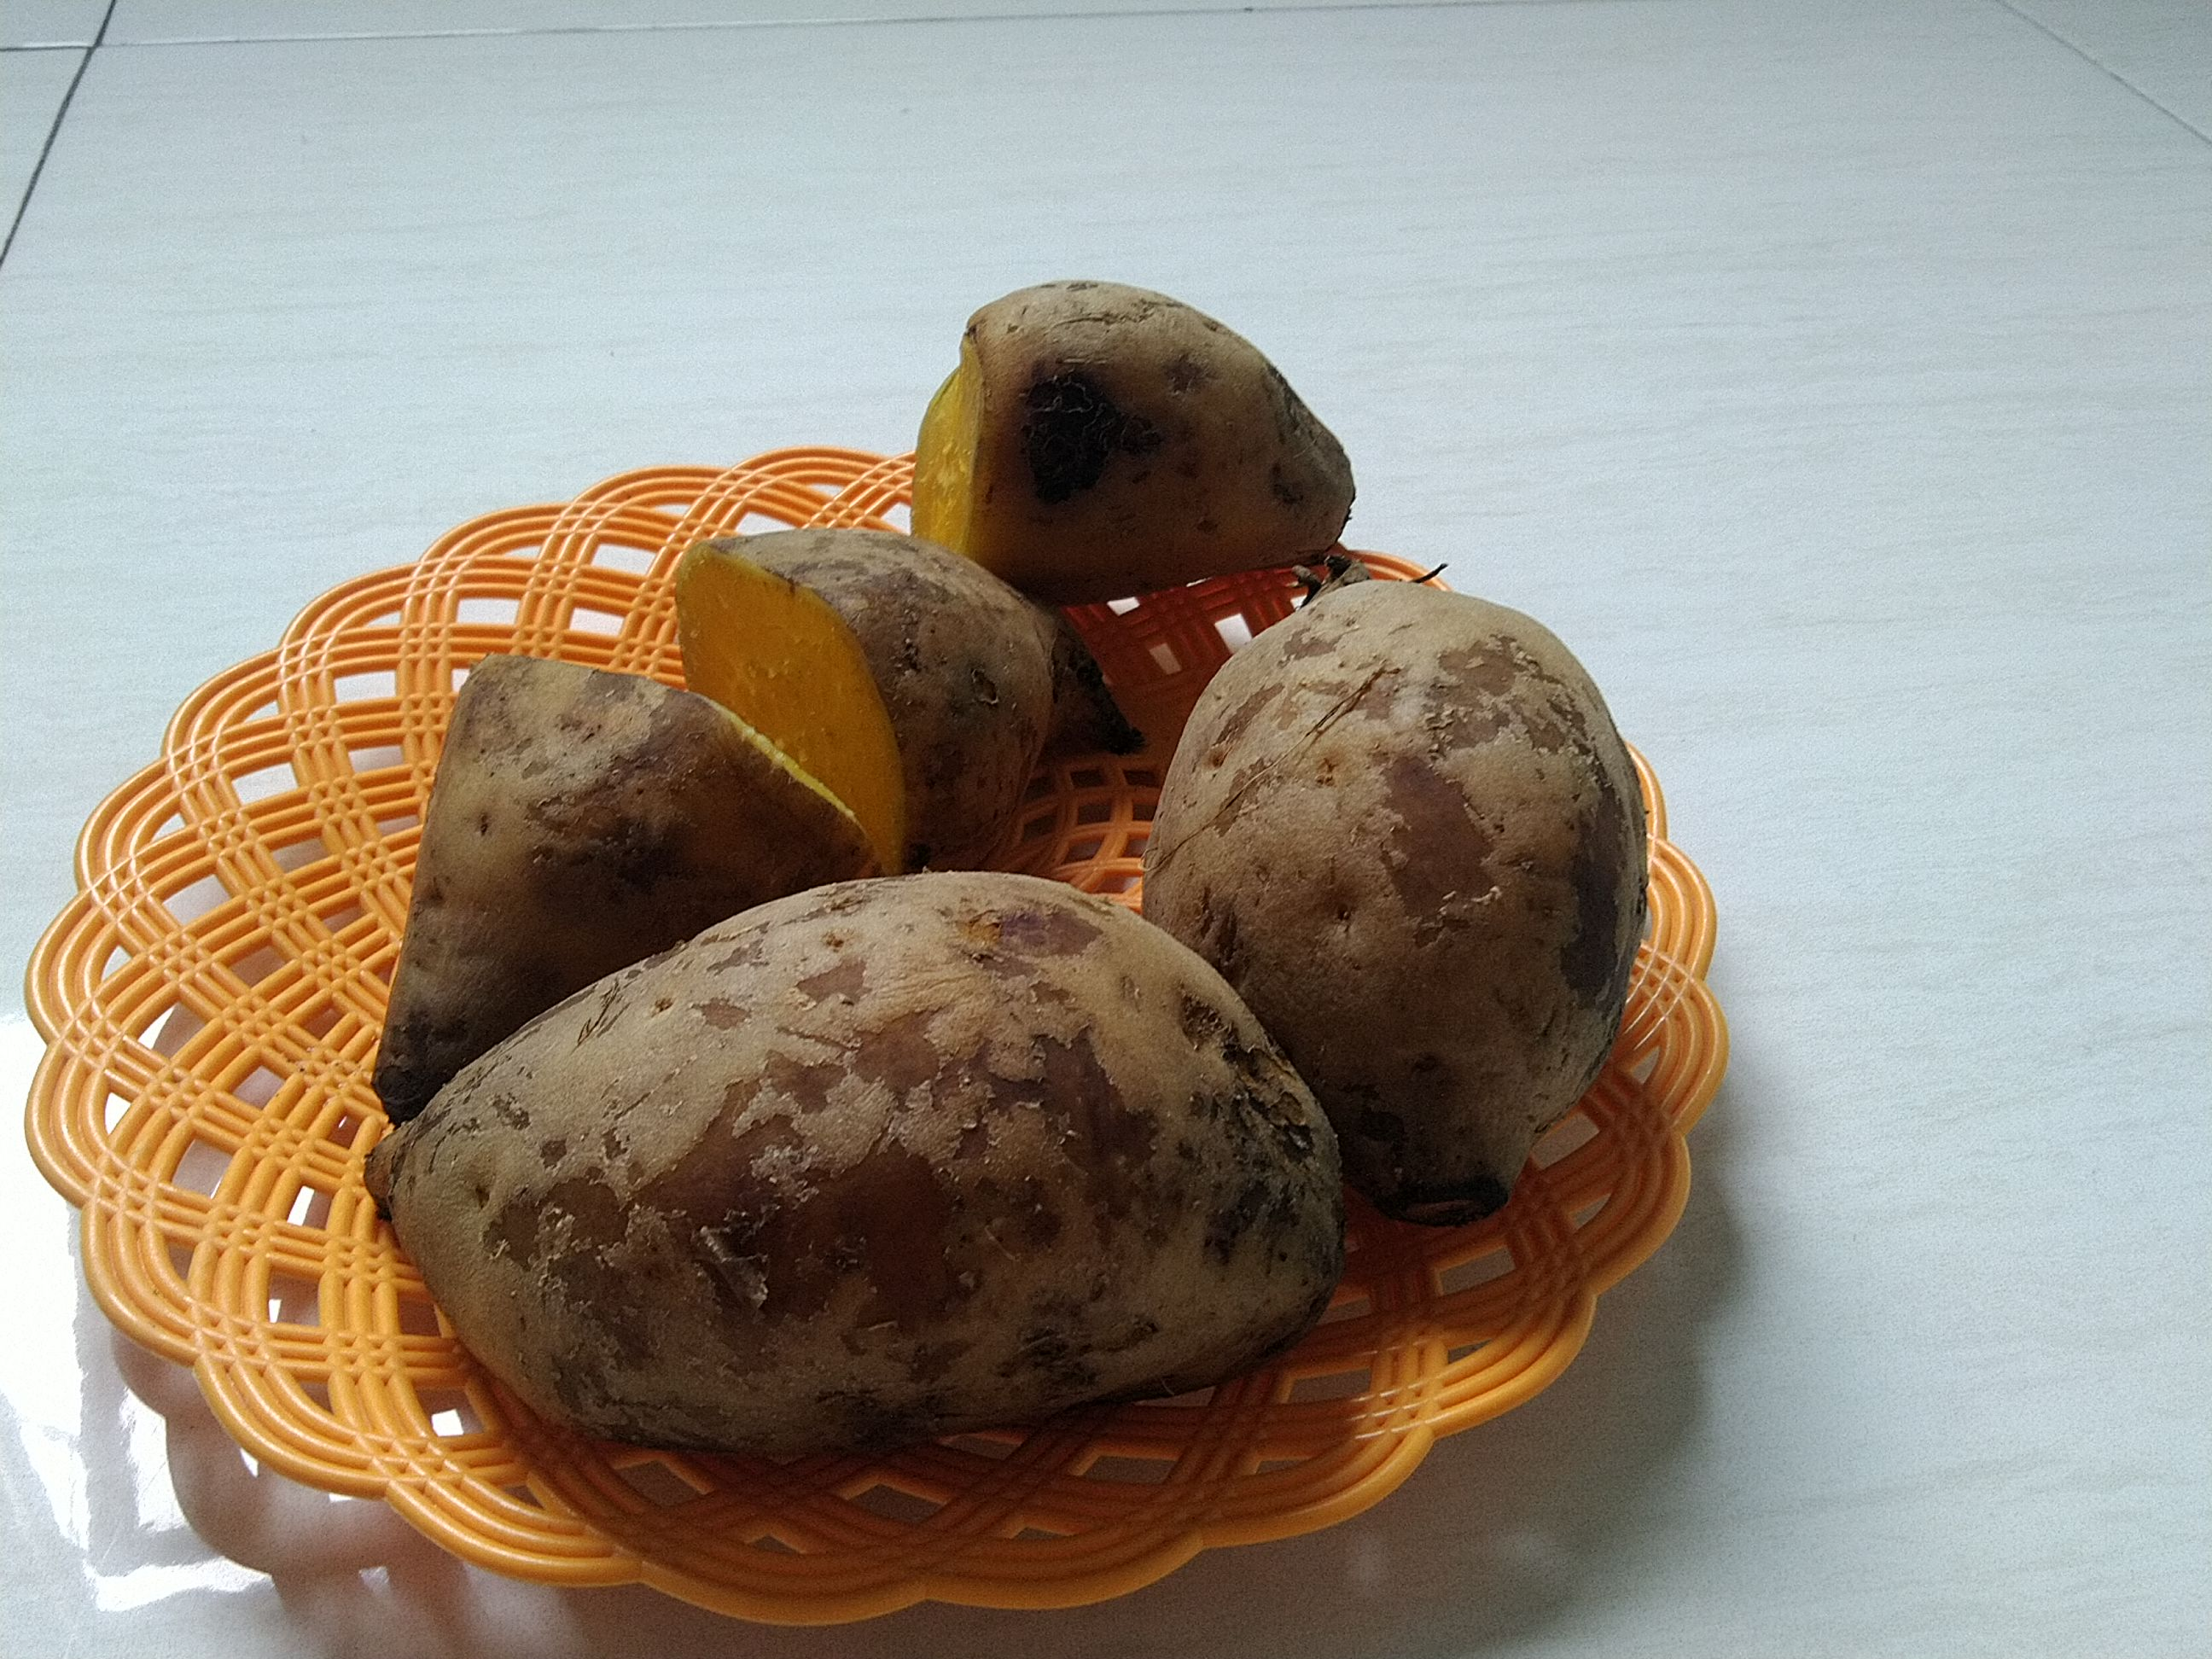ubi kuning: (369, 220, 1653, 1466), (350, 863, 1360, 1422), (366, 535, 1090, 1119), (1130, 544, 1667, 1225), (383, 653, 859, 1115), (894, 265, 1374, 617)
